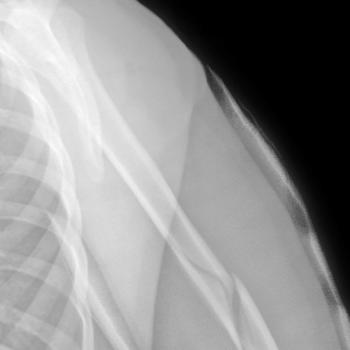Fracture: (220, 270, 247, 344)
